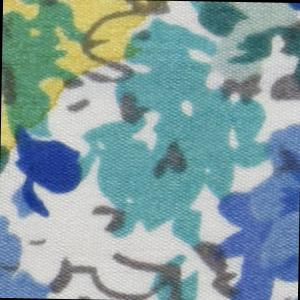Oil Stain: (1, 1, 174, 166)
